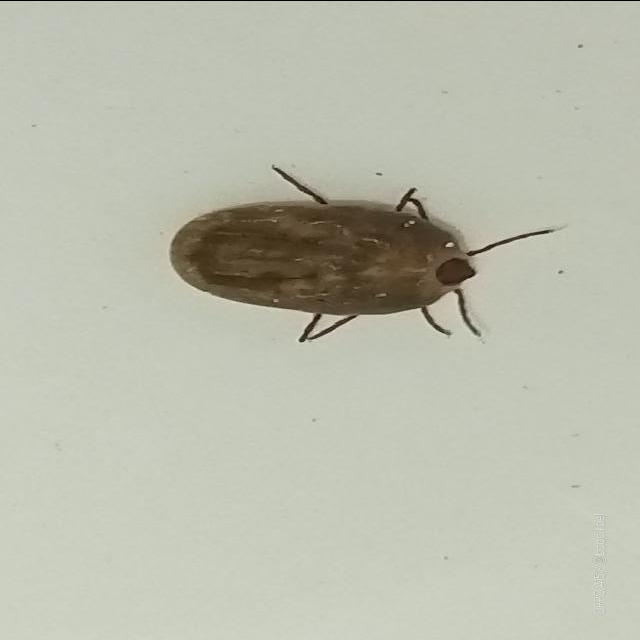Rhipicephalus Sanguineus-F-Fed: (170, 165, 559, 343)
